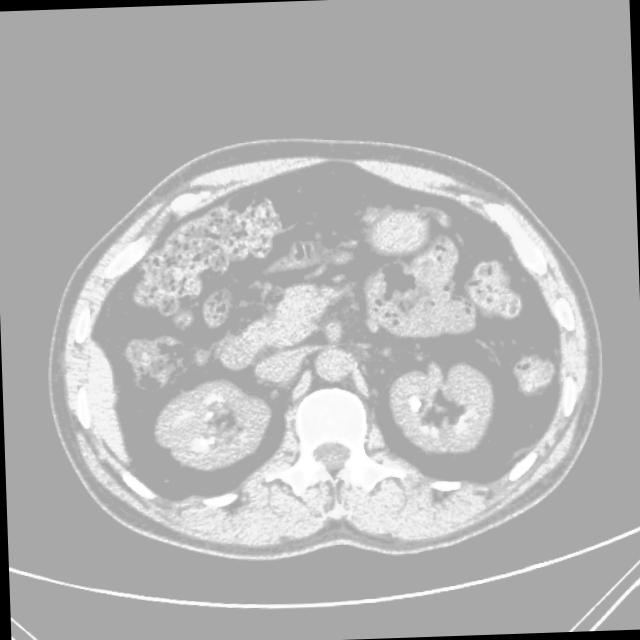STONE: (155, 297, 521, 490)
